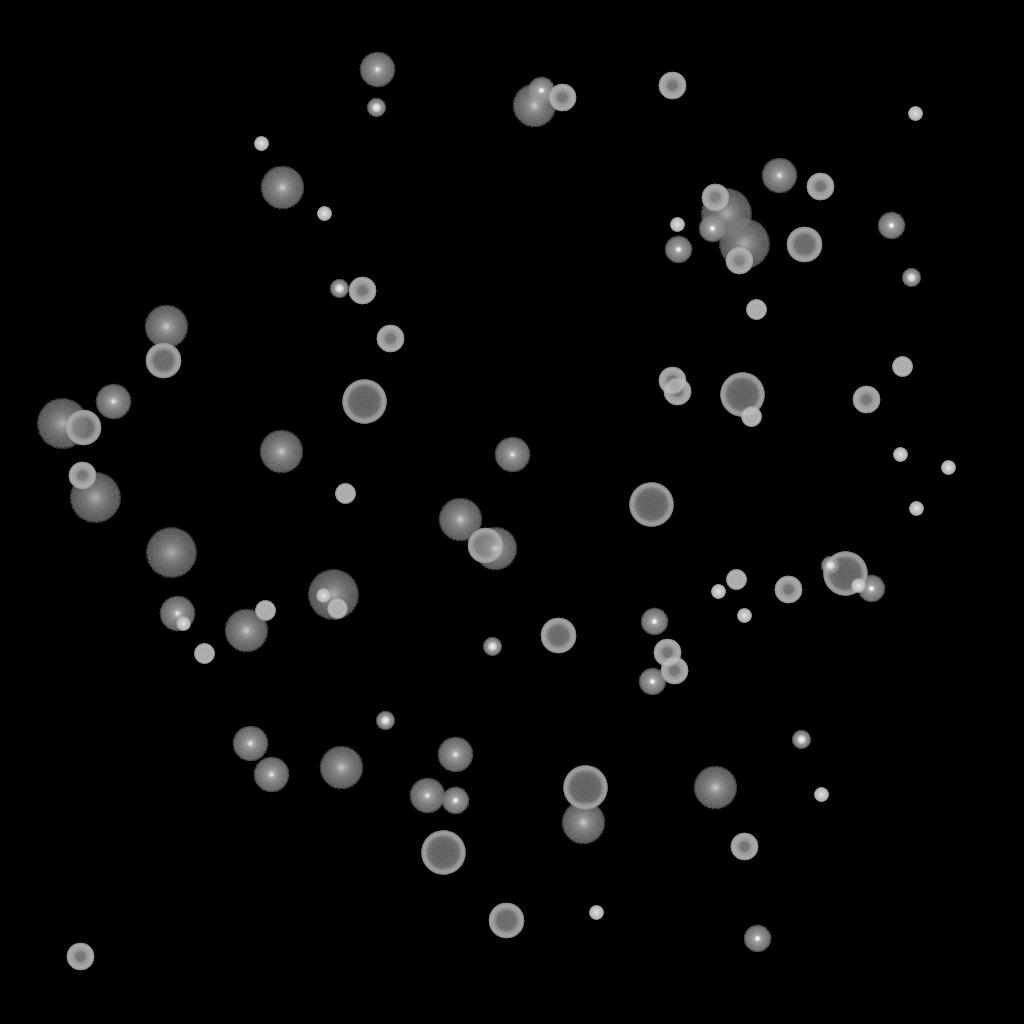depth:-10: (441, 787, 469, 815), (743, 925, 771, 953), (640, 608, 668, 636), (698, 215, 726, 243), (527, 77, 555, 105), (877, 212, 905, 240), (857, 575, 885, 603), (638, 668, 666, 696), (664, 236, 692, 264)
depth:-20: (376, 712, 394, 730), (821, 557, 839, 575), (330, 280, 348, 298), (792, 731, 810, 749), (483, 638, 501, 656), (902, 269, 920, 287), (367, 99, 385, 117)
depth:-30: (737, 609, 751, 623), (711, 585, 725, 599), (317, 207, 331, 221), (316, 589, 330, 603), (909, 502, 923, 516), (589, 906, 603, 920), (670, 218, 684, 232), (176, 617, 190, 631), (851, 579, 865, 593), (941, 461, 955, 475), (893, 448, 907, 462), (814, 788, 828, 802), (908, 107, 922, 121), (254, 137, 268, 151)
depth:-40: (327, 599, 347, 619), (335, 484, 355, 504), (726, 570, 746, 590), (892, 357, 912, 377), (194, 644, 214, 664), (746, 300, 766, 320), (255, 601, 275, 621), (741, 407, 761, 427)
depth:-50: (774, 576, 802, 604), (852, 386, 880, 414), (701, 184, 729, 212), (68, 462, 96, 490), (66, 943, 94, 971), (806, 173, 834, 201), (660, 657, 688, 685), (730, 833, 758, 861), (653, 639, 681, 667), (548, 84, 576, 112), (725, 247, 753, 275), (658, 367, 686, 395), (348, 277, 376, 305), (376, 325, 404, 353), (658, 72, 686, 100), (663, 378, 691, 406)
depth:-60: (488, 903, 524, 939), (467, 528, 503, 564), (786, 227, 822, 263), (145, 343, 181, 379), (540, 618, 576, 654), (65, 410, 101, 446)
depth:-70: (421, 831, 465, 875), (629, 483, 673, 527), (823, 552, 867, 596), (720, 373, 764, 417), (563, 766, 607, 810), (342, 380, 386, 424)
depth:0: (494, 437, 530, 473), (761, 158, 797, 194), (95, 384, 131, 420), (253, 757, 289, 793), (437, 737, 473, 773), (232, 726, 268, 762), (409, 778, 445, 814), (159, 596, 195, 632), (359, 52, 395, 88)
depth:10: (512, 84, 556, 128), (438, 498, 482, 542), (473, 527, 517, 571), (319, 746, 363, 790), (224, 609, 268, 653), (259, 430, 303, 474), (260, 166, 304, 210), (693, 766, 737, 810), (561, 801, 605, 845), (144, 305, 188, 349)
depth:20: (718, 219, 770, 269), (307, 570, 359, 620), (145, 528, 197, 578), (36, 399, 88, 449), (69, 473, 121, 523), (700, 189, 752, 239)
